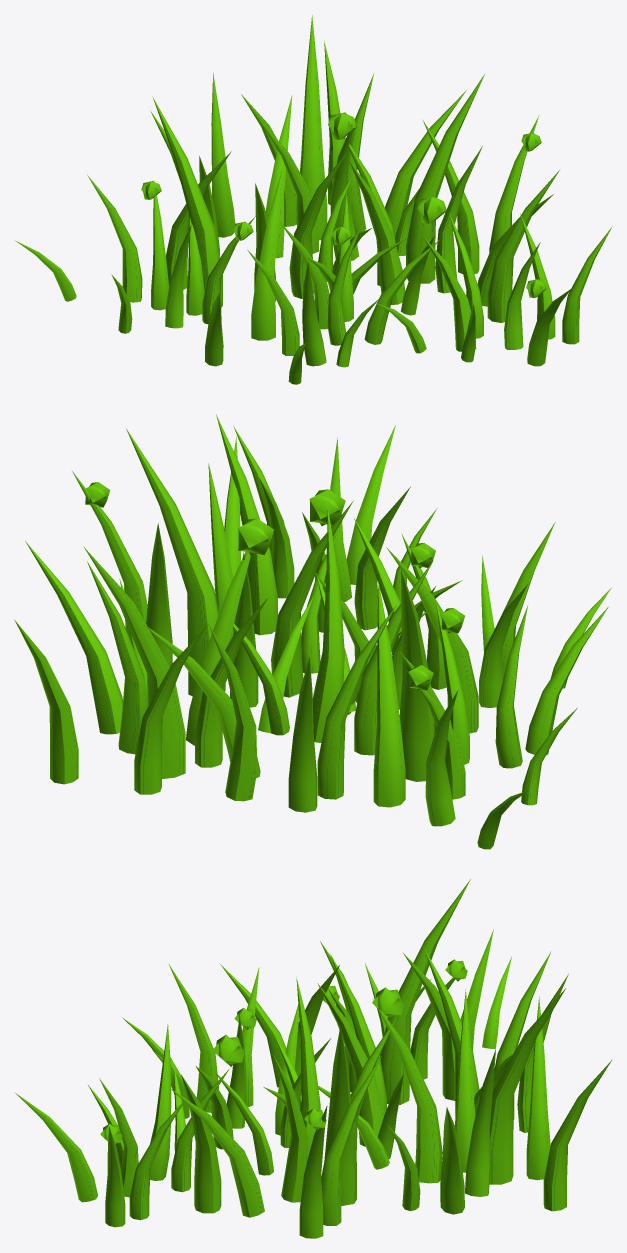
The model's file is grass2.glb.
The picture shows the model from 3 angles, top to bottom: view 1: azimuth 30°, elevation 25°; view 2: azimuth 150°, elevation 25°; view 3: azimuth 270°, elevation 25°; orthographic projection. The views are drawn at different scales.
Parts seen in each view (by area): view 1: default5_Material_0; view 2: default5_Material_0; view 3: default5_Material_0.
Part boxes in pixels (x1,y1,x2,y2): default5_Material_0: [15, 15, 612, 384]; default5_Material_0: [14, 414, 611, 849]; default5_Material_0: [14, 879, 612, 1238].
Size of the model in its own units: 1.26 by 0.5451 by 1.35.
Materials: 1 (1 with a texture image).
